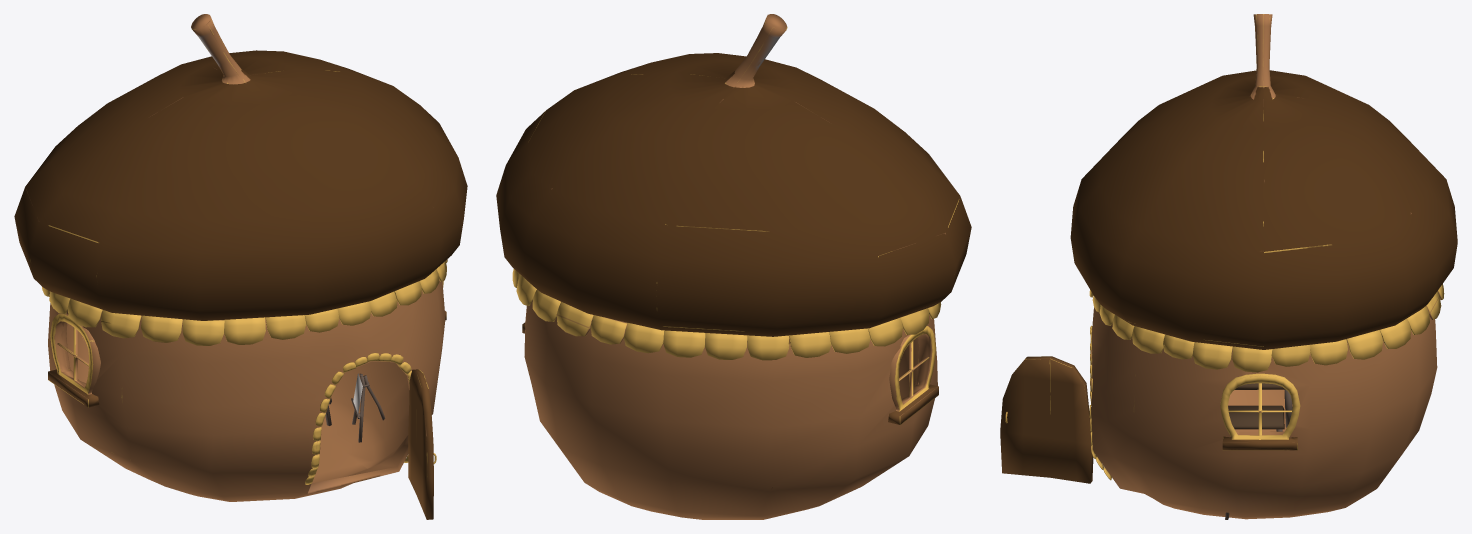
Rendered from acornhouseFinal.fbx.
3 renders of one model, left to right at view 1: azimuth 30°, elevation 25°; view 2: azimuth 150°, elevation 25°; view 3: azimuth 270°, elevation 25°, orthographic. The views are drawn at different scales.
Parts seen in each view (by area): view 1: House; view 2: House; view 3: House.
Part boxes in pixels (x1=…): House: x1=14, y1=14, x2=467, y2=519; House: x1=496, y1=14, x2=971, y2=519; House: x1=1000, y1=14, x2=1457, y2=519.
Size of the model in its own units: 969 by 1002 by 950.
